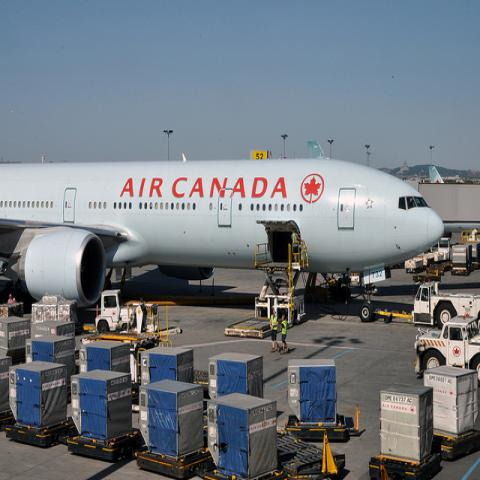truck: (414, 314, 479, 385), (410, 281, 480, 331), (95, 288, 158, 333), (404, 237, 452, 274)
